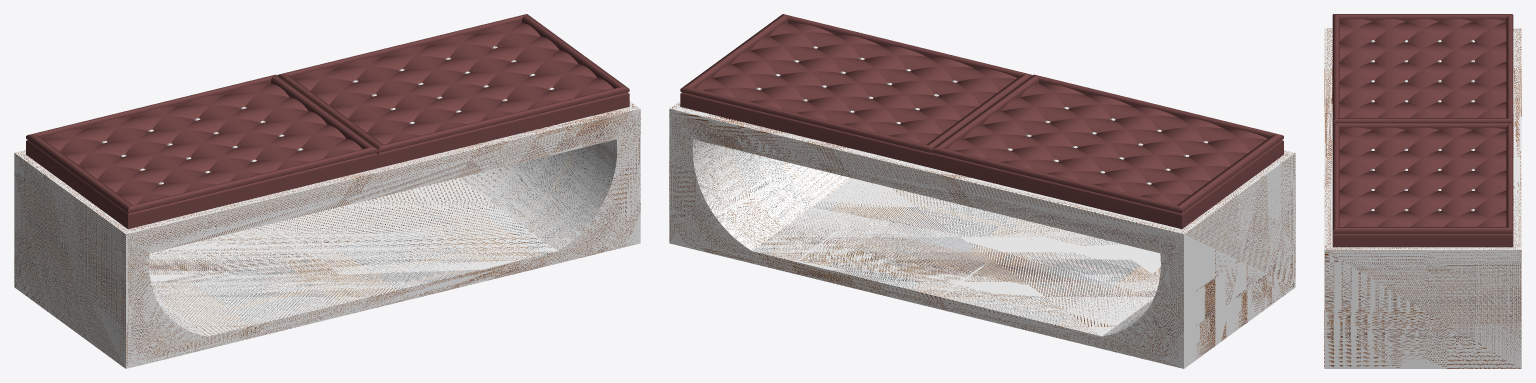
3 views of the same model, side by side, from view 1: azimuth 30°, elevation 25°; view 2: azimuth 150°, elevation 25°; view 3: azimuth 270°, elevation 25° (orthographic). The views are drawn at different scales.
Parts seen in each view (by area): view 1: mesh43_mesh43-geometry, mesh21_mesh21-geometry, mesh39_mesh39-geometry; view 2: mesh43_mesh43-geometry, mesh21_mesh21-geometry, mesh39_mesh39-geometry; view 3: mesh21_mesh21-geometry, mesh43_mesh43-geometry, mesh39_mesh39-geometry.
Boxes of the visible parts, x1=… form: mesh43_mesh43-geometry: x1=14, y1=101, x2=640, y2=368; mesh21_mesh21-geometry: x1=42, y1=23, x2=613, y2=204; mesh39_mesh39-geometry: x1=26, y1=14, x2=629, y2=228; mesh43_mesh43-geometry: x1=669, y1=101, x2=1295, y2=368; mesh21_mesh21-geometry: x1=696, y1=23, x2=1267, y2=204; mesh39_mesh39-geometry: x1=680, y1=14, x2=1283, y2=228; mesh21_mesh21-geometry: x1=1339, y1=19, x2=1506, y2=226; mesh43_mesh43-geometry: x1=1324, y1=28, x2=1521, y2=368; mesh39_mesh39-geometry: x1=1332, y1=14, x2=1513, y2=247.
Size of the model in its own units: 0.9041 by 0.2601 by 0.339.
